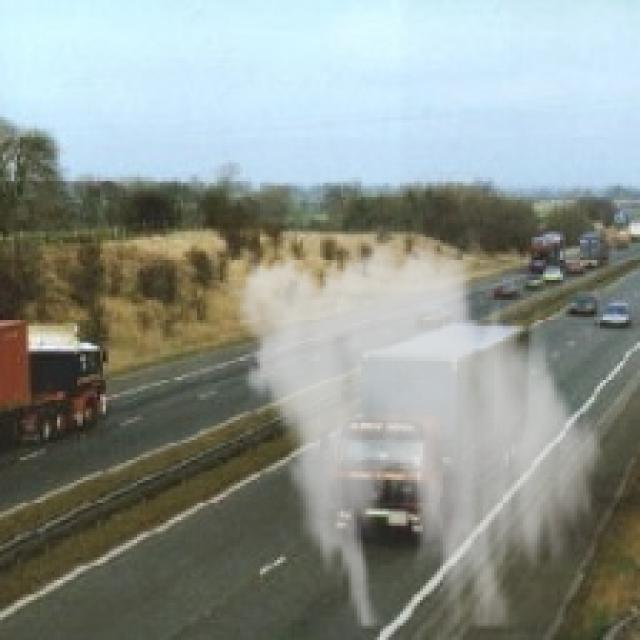smoke: (217, 226, 614, 628)
